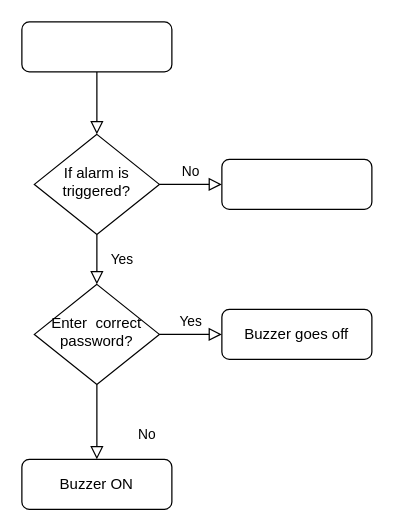
Some shapes in this 394 by 531 pixel diagram are drawn without their labels. The centre of each missing label's shape, as x and y in pixels:
"Set Alarm Countdown" goes at [296,183].
"Start" goes at [96,46].
